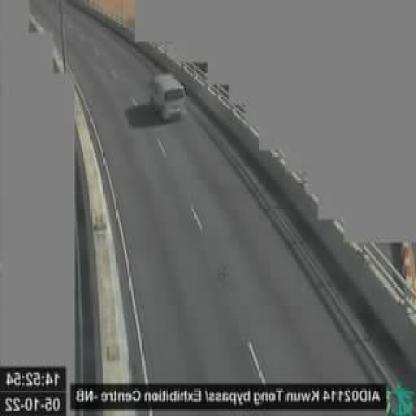Car: (151, 71, 187, 121)
